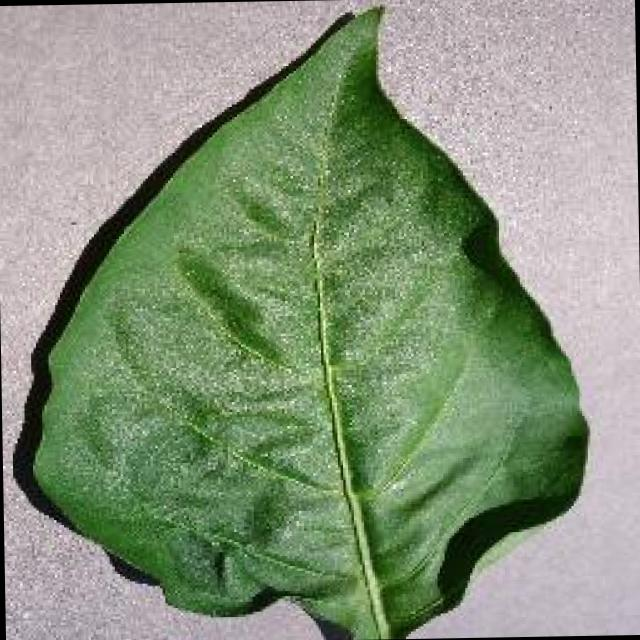Chilli_Healthy: (9, 0, 592, 640)
